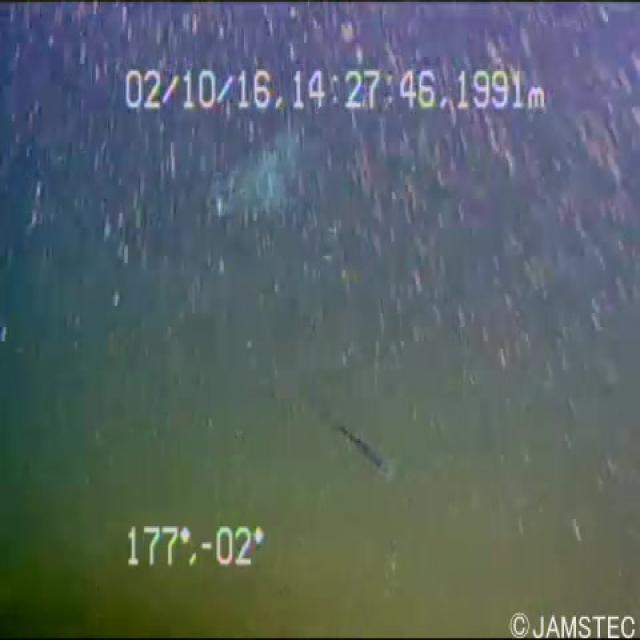plastic: (176, 132, 316, 242)
